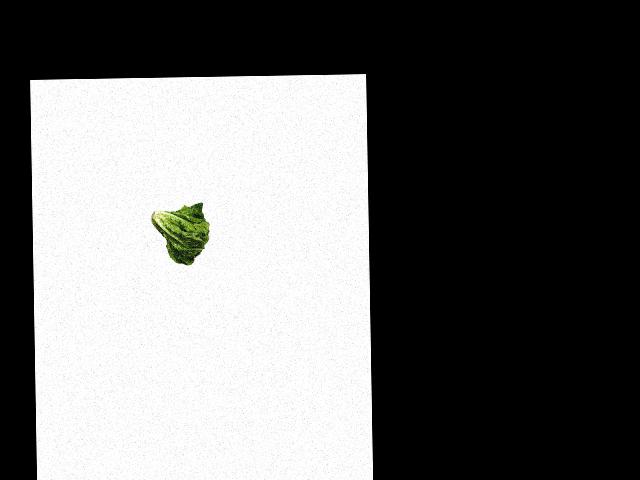lettuce: (147, 201, 212, 266)
